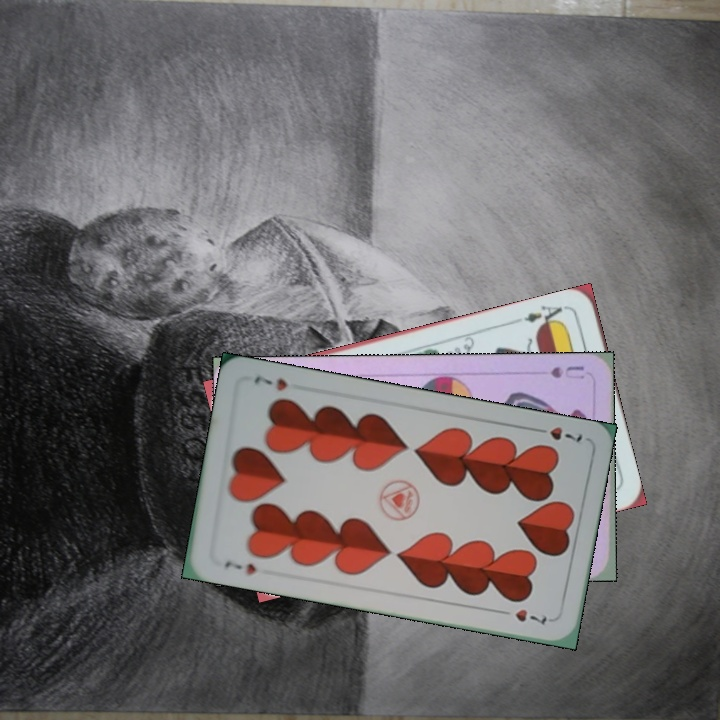EA: (520, 301, 570, 331)
H7: (529, 422, 585, 445), (220, 556, 259, 577)
SU: (546, 361, 587, 382)
